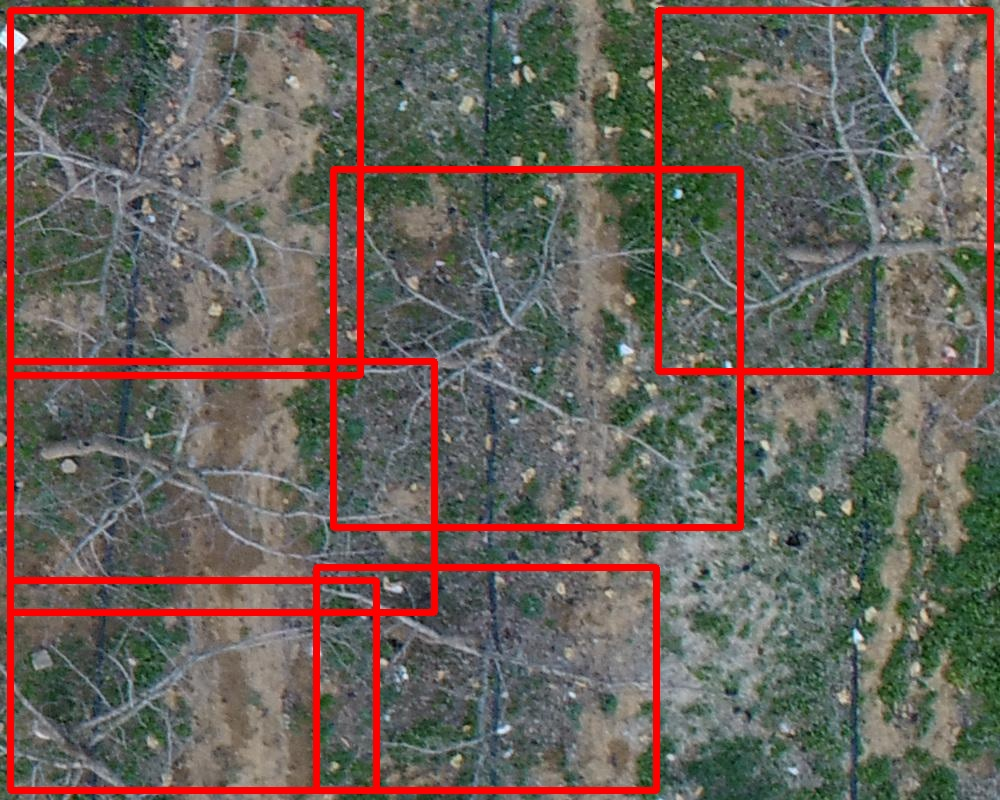apple: (333, 169, 740, 527), (10, 10, 360, 375), (658, 10, 990, 371), (10, 361, 434, 612), (10, 580, 376, 790), (316, 567, 656, 790)
